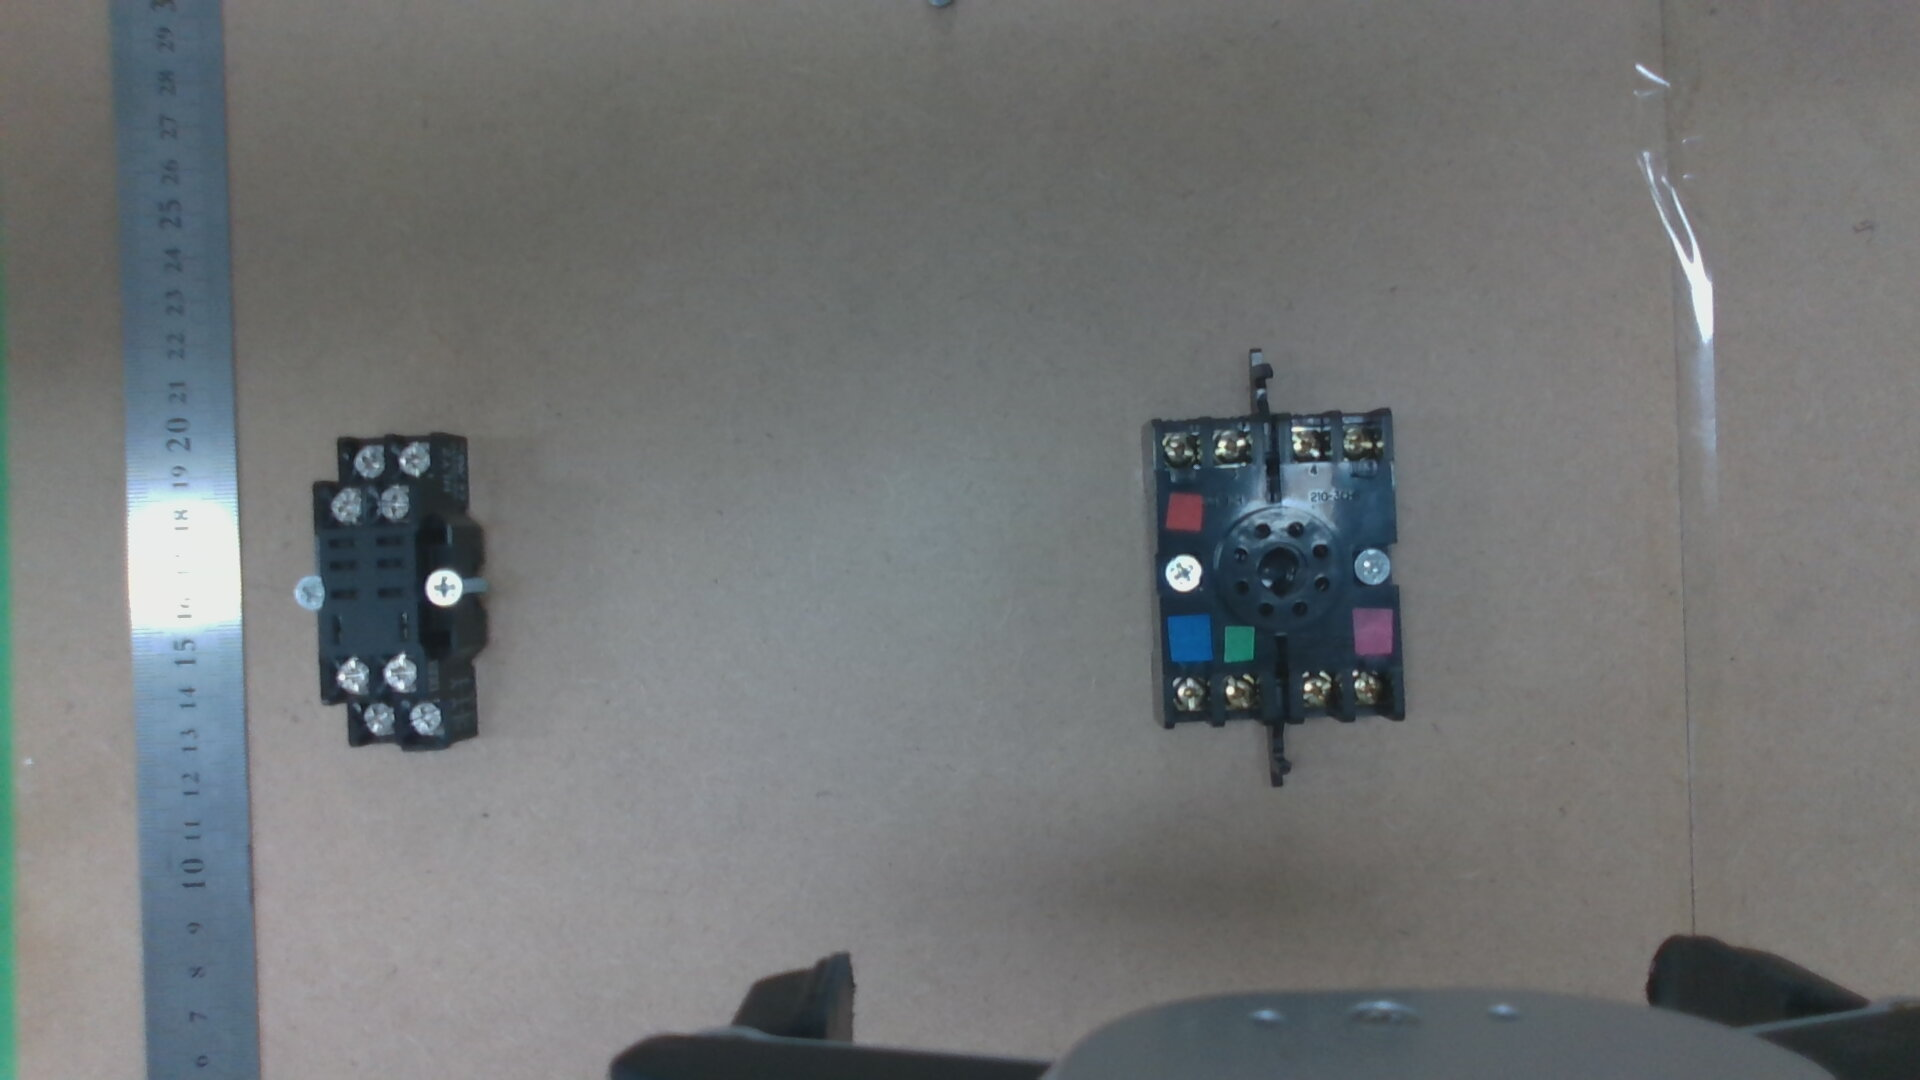timer 2: (1356, 671, 1386, 704)
timer 6: (1162, 433, 1197, 463)
timer 7: (1174, 676, 1209, 709)
timer 8: (1225, 676, 1259, 708)
